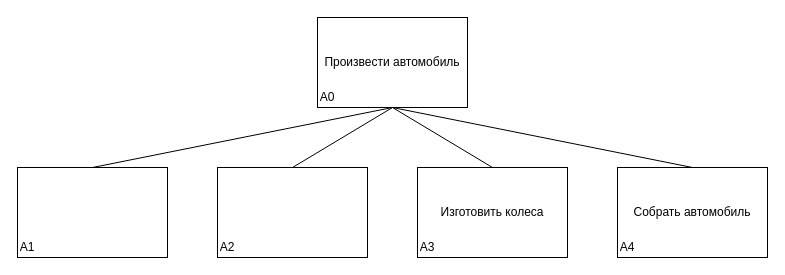
Image size: 785x275. Some labels were removed from this diagram. Here are the shapes that lost their labels. From the top down, the box of each, then its label:
(16, 166, 168, 258): Изготовить двигатель
(216, 166, 368, 258): Изготовить кузов
